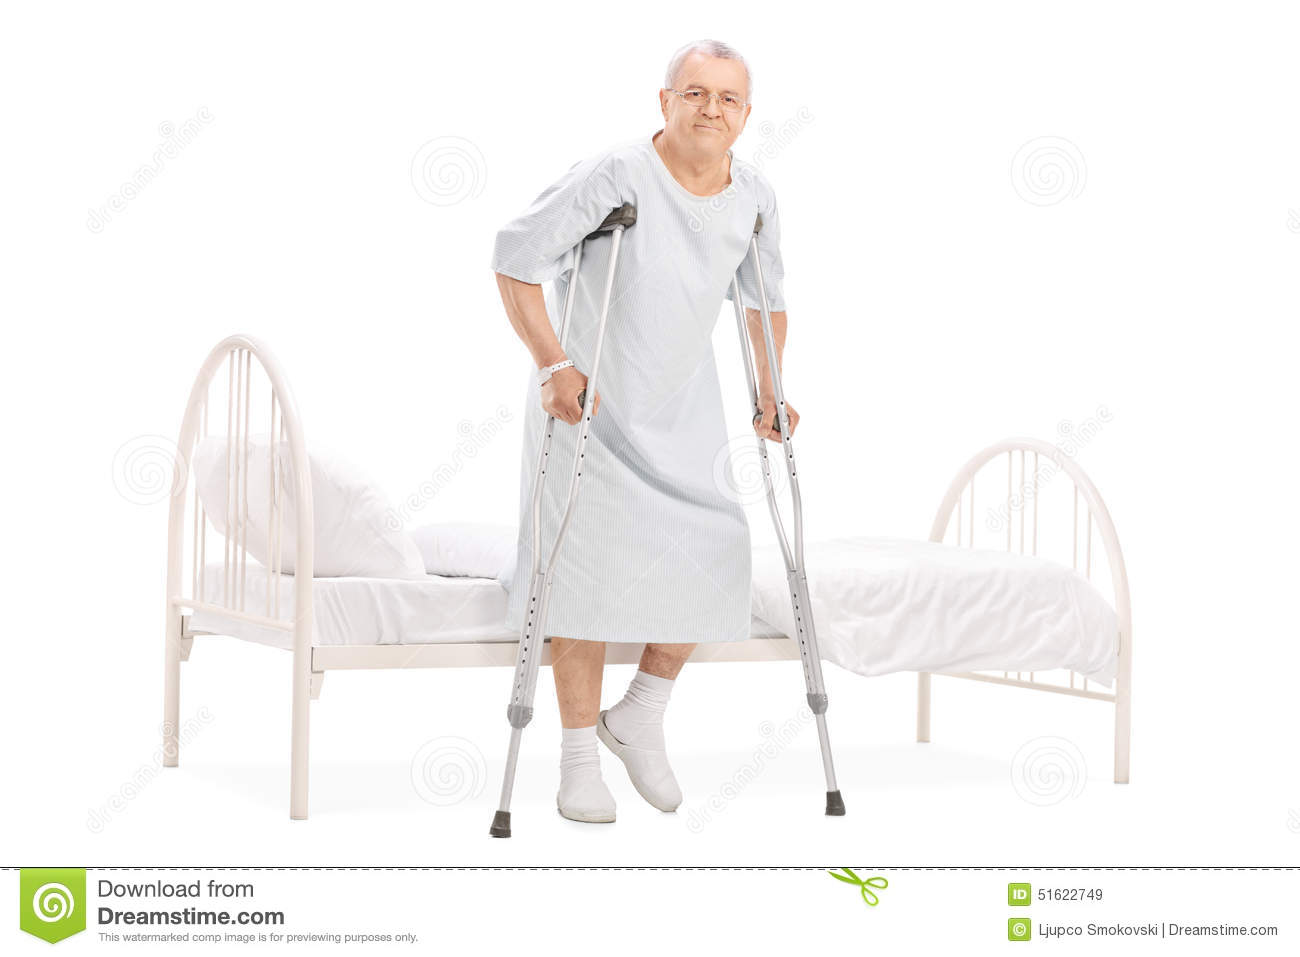crutches: (488, 37, 849, 843)
